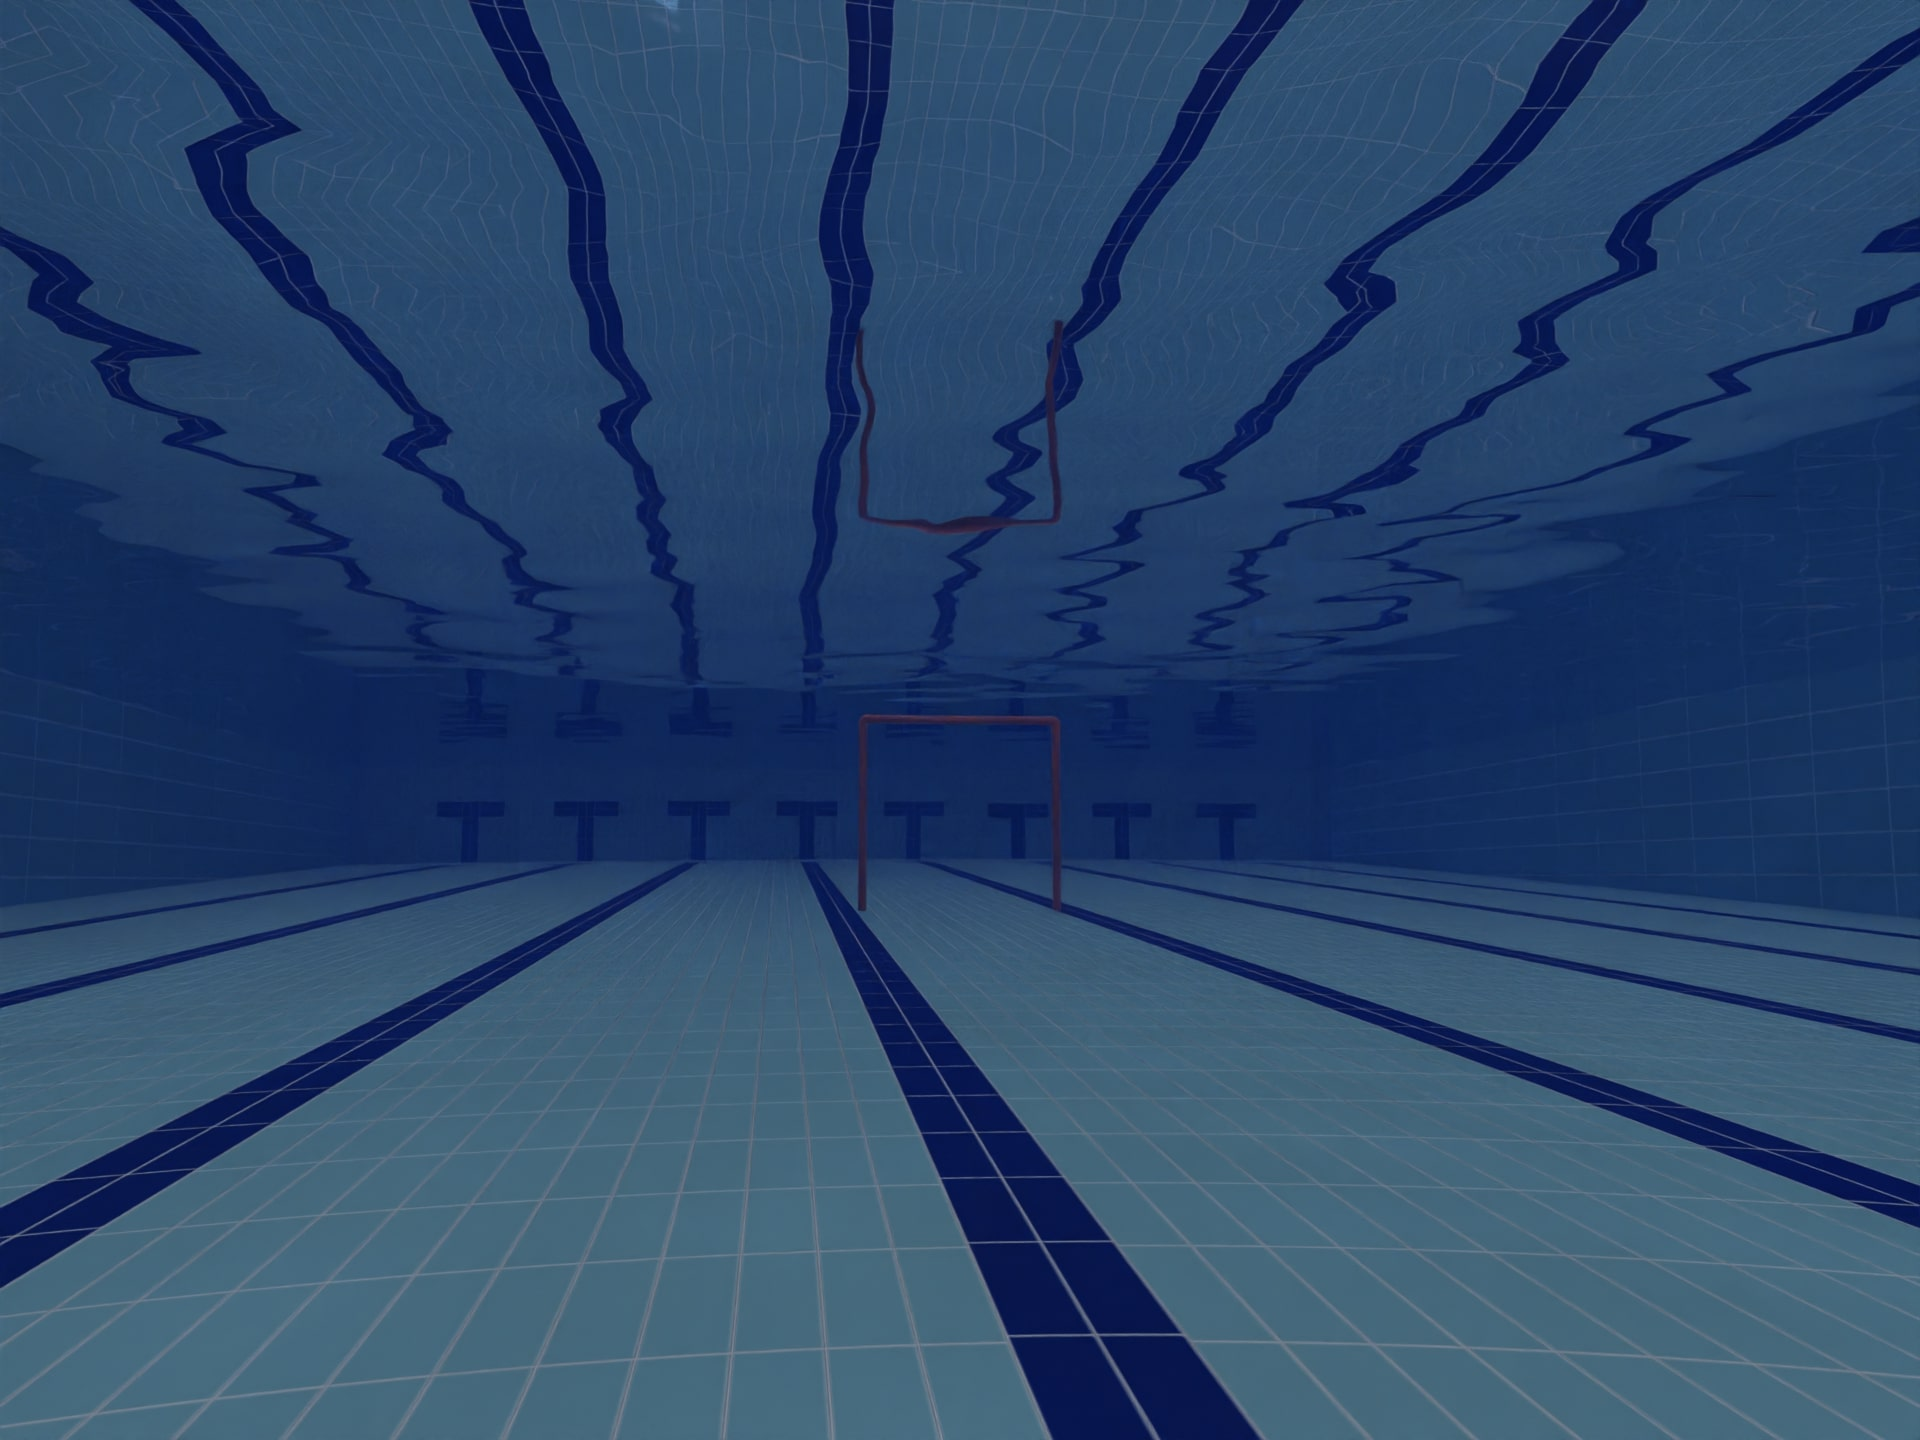gate: (838, 678, 1104, 929)
